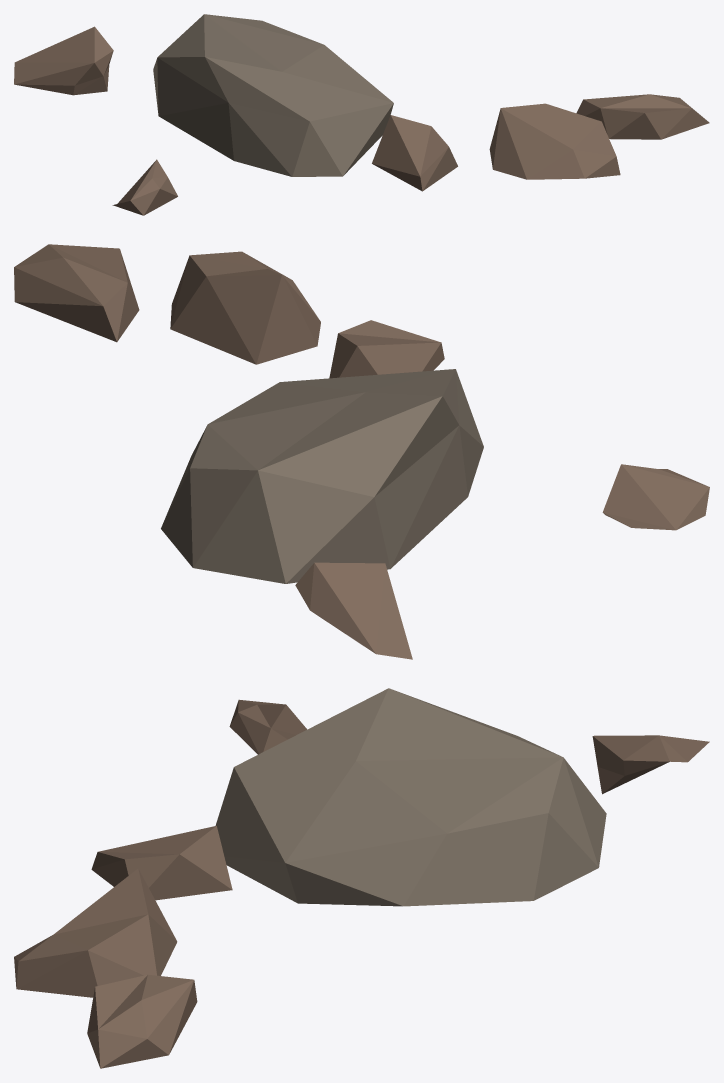
Rendered from Stone 4.glb.
The picture shows the model from 3 angles, top to bottom: view 1: azimuth 30°, elevation 25°; view 2: azimuth 150°, elevation 25°; view 3: azimuth 270°, elevation 25°; orthographic projection. The views are drawn at different scales.
Visible parts, largest first — view 1: Stone 4; view 2: Stone 4; view 3: Stone 4.
Part boxes in pixels (x1,y1,x2,y2): Stone 4: (14,14,709,215); Stone 4: (14,244,709,659); Stone 4: (14,688,709,1068).
Size of what is drawn, in the model's own units: 2.49 by 0.3975 by 2.06.
1 material, 1 textured.
